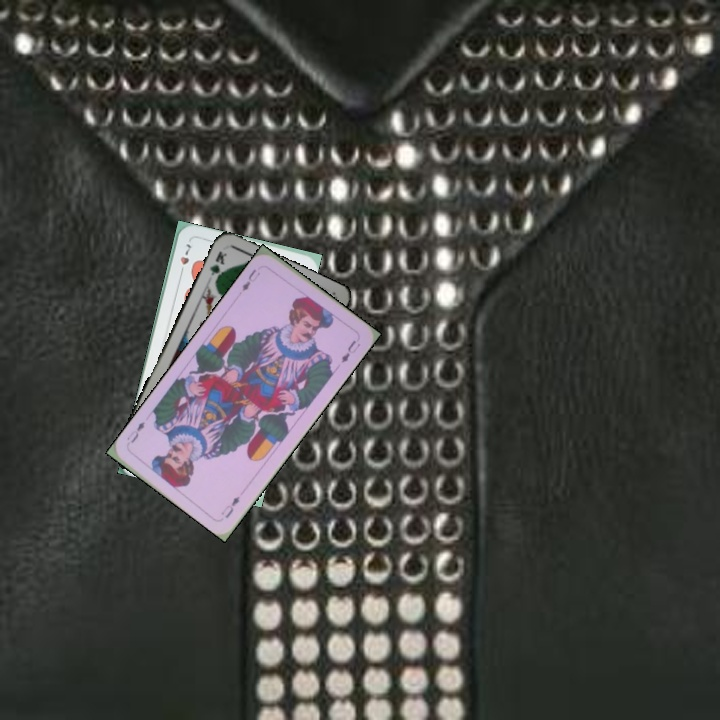EU: (238, 265, 263, 294), (217, 492, 242, 521)
GK: (206, 247, 229, 286)
H7: (176, 239, 194, 278)
